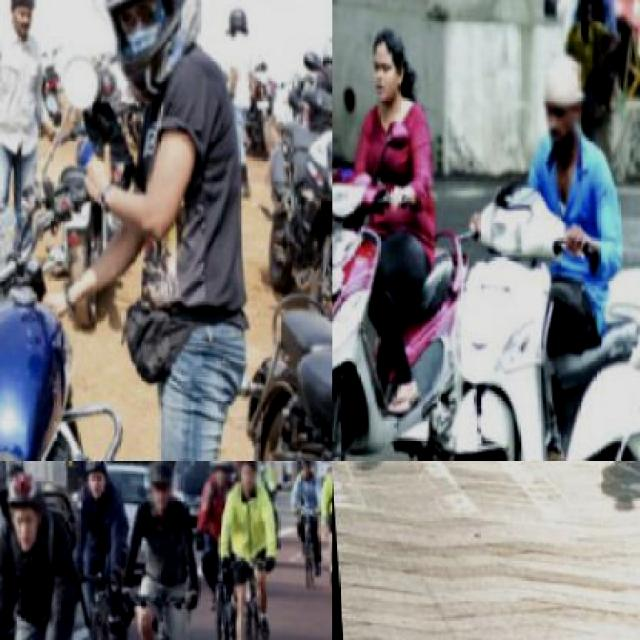With Helmet: (81, 0, 212, 106), (0, 469, 49, 551), (138, 460, 177, 515), (72, 460, 112, 505), (229, 460, 263, 495), (204, 460, 236, 492), (292, 460, 314, 480)
Without Helmet: (529, 40, 591, 151), (357, 12, 415, 108)
